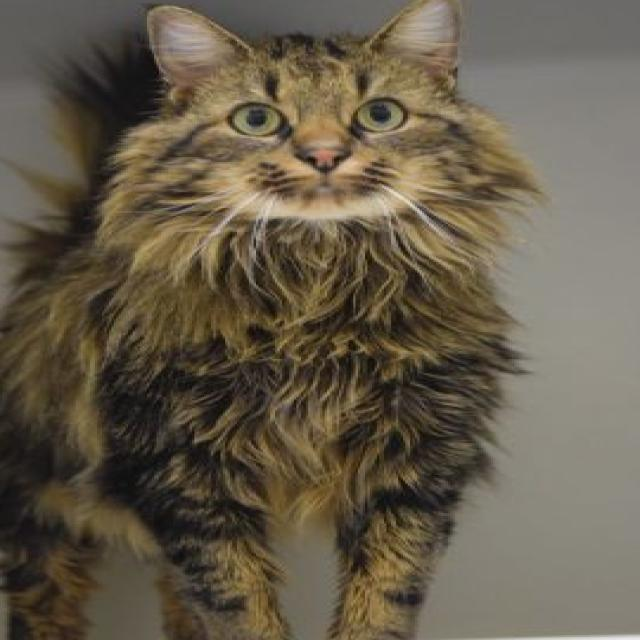Maine Coon: (0, 0, 557, 640)
